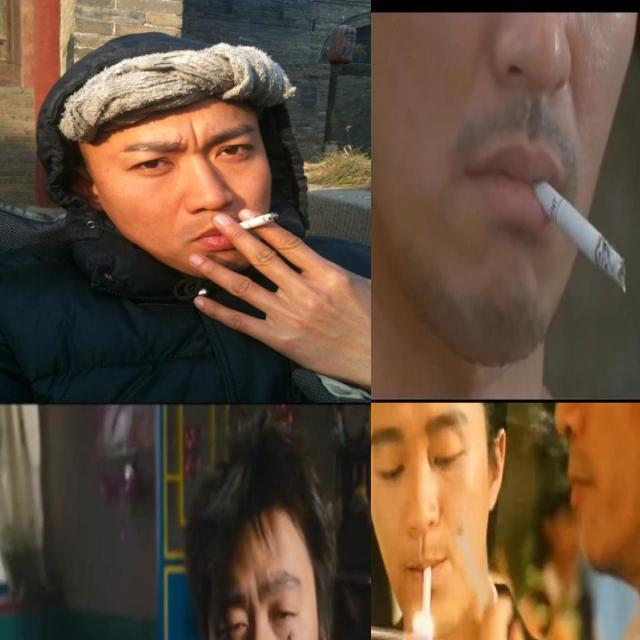cigarette: (532, 178, 630, 296), (233, 210, 285, 233), (421, 546, 434, 622)
